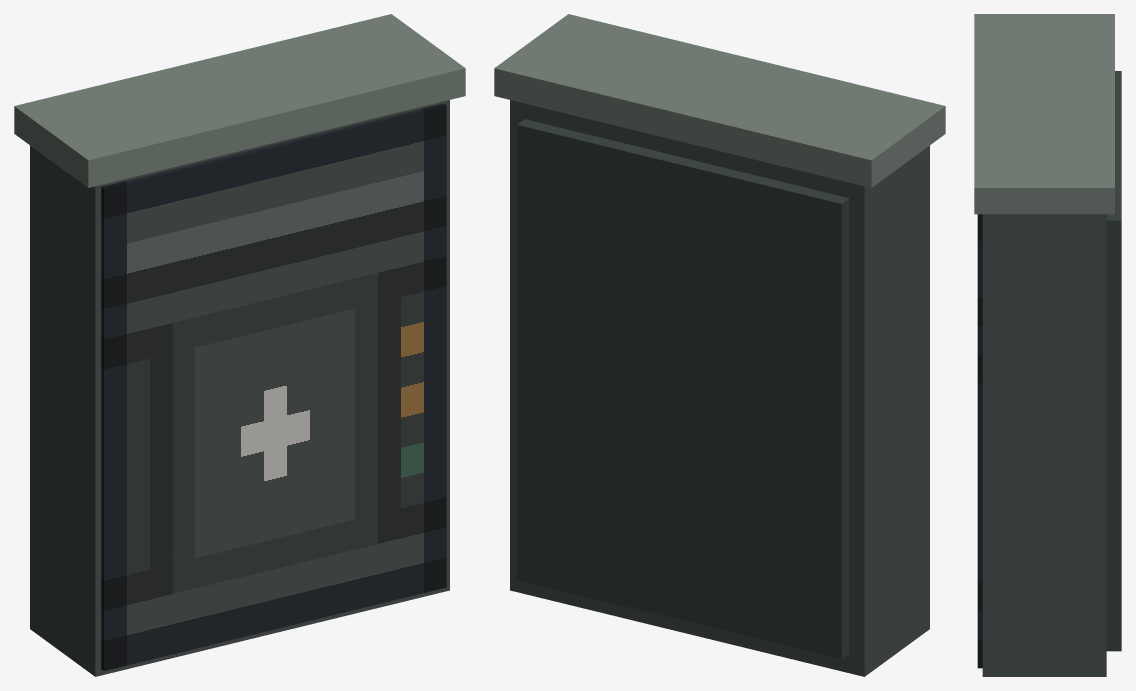
Rendered from CMU3DInteriorVehicleInteriorNanomed.glb.
3 views of the same model, side by side, from view 1: azimuth 30°, elevation 25°; view 2: azimuth 150°, elevation 25°; view 3: azimuth 270°, elevation 25° (orthographic). The views are drawn at different scales.
Parts seen in each view (by area): view 1: source equipment controls, reinforced top, closed equipment casing; view 2: rear service plate, closed equipment casing, reinforced top; view 3: closed equipment casing, reinforced top, rear service plate, source equipment controls.
Boxes of the visible parts, box(x1,y1,x2,y2) form: source equipment controls: box(101, 103, 446, 670); reinforced top: box(14, 14, 465, 187); closed equipment casing: box(30, 100, 449, 676); rear service plate: box(517, 119, 849, 659); closed equipment casing: box(510, 100, 929, 676); reinforced top: box(494, 14, 945, 187); closed equipment casing: box(982, 214, 1106, 676); reinforced top: box(974, 14, 1114, 214); rear service plate: box(1106, 71, 1121, 651); source equipment controls: box(977, 214, 982, 668).
Bounding box in the file's own units: 0.4988 × 0.66 × 0.178.
4 materials, 1 textured.
